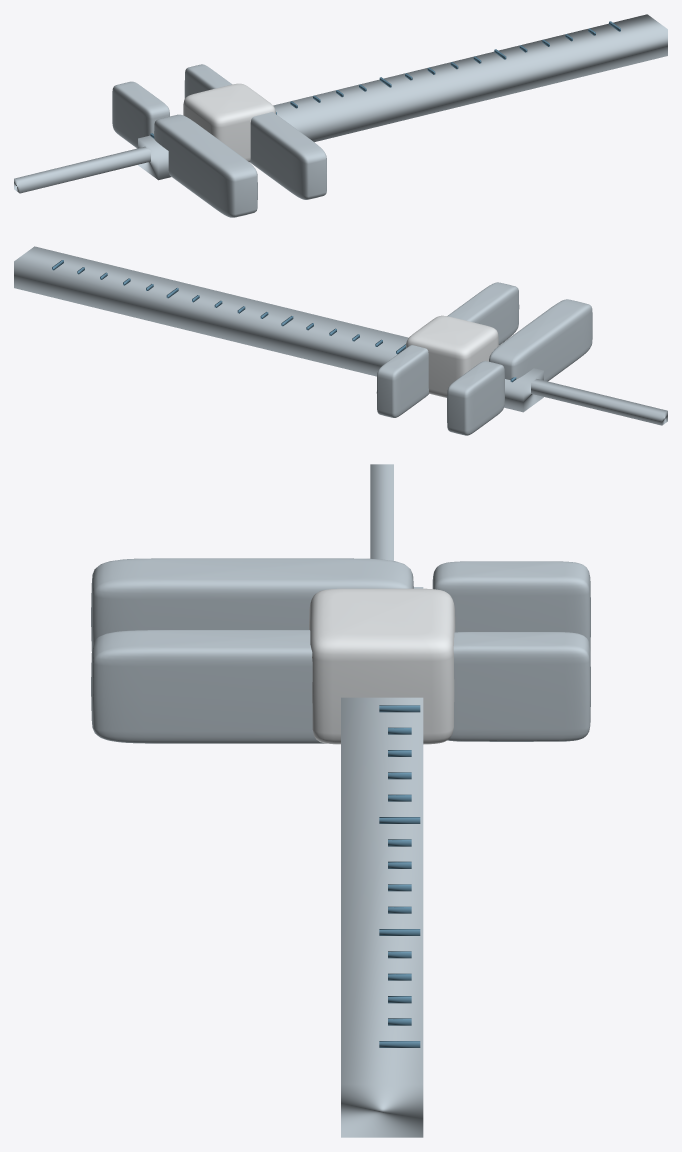
Rendered from caliper.glb.
3 renders of one model, top to bottom at view 1: azimuth 30°, elevation 25°; view 2: azimuth 150°, elevation 25°; view 3: azimuth 270°, elevation 25°, orthographic. The views are drawn at different scales.
Visible parts, largest first — view 1: Caliper_Beam, Fixed_Jaw, Moving_Jaw, Moving_Collar, Fixed_Inside_Jaw, Depth_Rod, Inside_Moving_Jaw; view 2: Caliper_Beam, Fixed_Jaw, Moving_Collar, Fixed_Inside_Jaw, Inside_Moving_Jaw, Moving_Jaw, Depth_Rod; view 3: Caliper_Beam, Moving_Jaw, Fixed_Jaw, Moving_Collar, Inside_Moving_Jaw, Fixed_Inside_Jaw, Depth_Rod.
Part boxes in pixels (x1,y1,x2,y2): Caliper_Beam: [138, 14, 667, 180]; Fixed_Jaw: [154, 114, 257, 217]; Moving_Jaw: [250, 112, 326, 199]; Moving_Collar: [183, 83, 275, 162]; Fixed_Inside_Jaw: [112, 81, 169, 148]; Depth_Rod: [14, 146, 150, 193]; Inside_Moving_Jaw: [184, 64, 231, 98]; Caliper_Beam: [14, 246, 543, 412]; Fixed_Jaw: [489, 299, 592, 381]; Moving_Collar: [406, 315, 498, 397]; Fixed_Inside_Jaw: [447, 361, 504, 435]; Inside_Moving_Jaw: [376, 345, 429, 417]; Moving_Jaw: [447, 282, 519, 345]; Depth_Rod: [531, 379, 667, 425]; Caliper_Beam: [341, 587, 423, 1137]; Moving_Jaw: [91, 630, 326, 743]; Fixed_Jaw: [91, 558, 413, 651]; Moving_Collar: [309, 588, 455, 744]; Inside_Moving_Jaw: [447, 632, 590, 741]; Fixed_Inside_Jaw: [432, 561, 590, 650]; Depth_Rod: [370, 464, 393, 560].
Bounding box in the file's own units: 0.2515 × 0.02 × 0.085.
